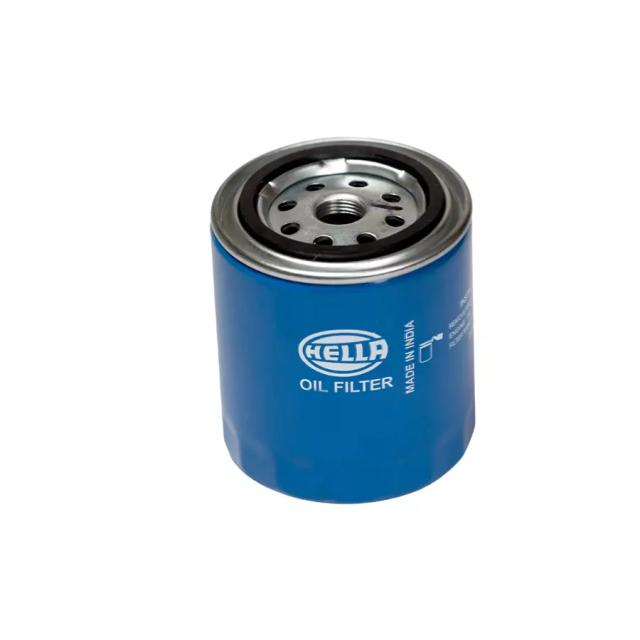oil_filter: (206, 130, 484, 514)
